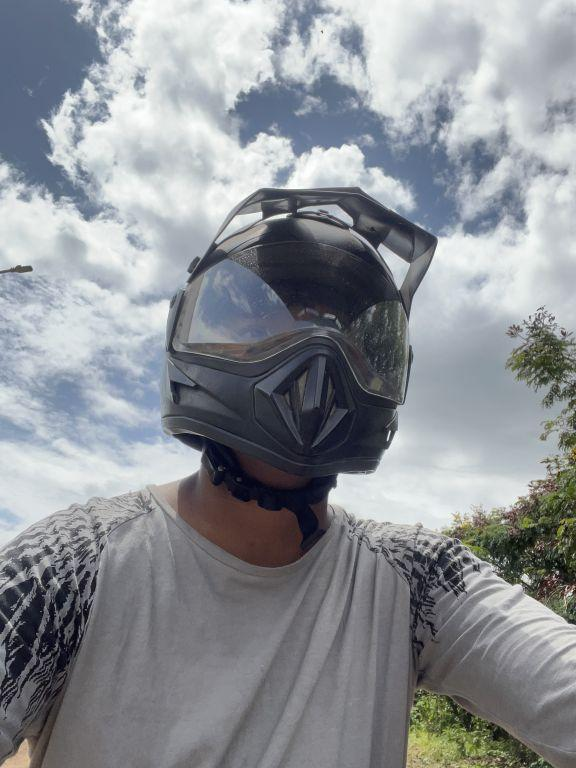helmet: (155, 167, 446, 521)
